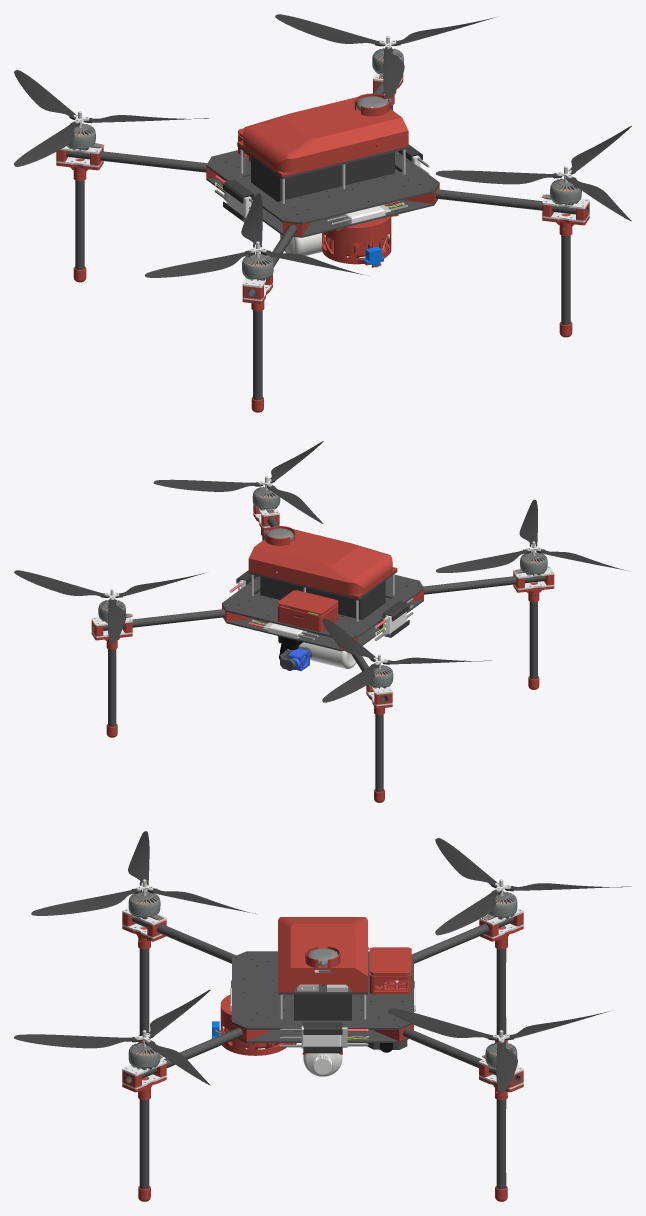
The model's file is drone.glb.
3 renders of one model, top to bottom at view 1: azimuth 30°, elevation 25°; view 2: azimuth 150°, elevation 25°; view 3: azimuth 270°, elevation 25°, orthographic. The views are drawn at different scales.
Parts seen in each view (by area): view 1: Body2.002, Body1.010, Body1.011, Body1.089, Body1.019, Body1, Body1.047, Body1.049, Body1.127, Body1.138, Body1.131, Body1.135 (+14 smaller); view 2: Body2.002, Body1.010, Body1.011, Body1.019, Body1, Body2.014, Body1.002, Body1.128, Body1.048, Body1.130, Body1.140, Body1.125 (+11 smaller); view 3: Body1.010, Body2.002, Body1.019, Body1.011, Body1, Body2.014, Body1.126, Body1.132, Body1.139, Body1.089, Body1.136, Body1.023 (+20 smaller).
Part boxes in pixels (<box>): Body2.002: <box>237,100,376,176</box>; Body1.010: <box>206,150,439,224</box>; Body1.011: <box>251,152,394,201</box>; Body1.089: <box>322,214,398,265</box>; Body1.019: <box>343,93,408,157</box>; Body1: <box>206,168,437,237</box>; Body1.047: <box>435,189,588,215</box>; Body1.049: <box>66,150,206,172</box>; Body1.127: <box>435,170,562,184</box>; Body1.138: <box>145,250,255,277</box>; Body1.131: <box>275,14,384,46</box>; Body1.135: <box>14,122,79,166</box>; Body2.002: <box>276,532,397,598</box>; Body1.010: <box>222,574,423,638</box>; Body1.011: <box>260,576,385,619</box>; Body1.019: <box>248,526,305,581</box>; Body1: <box>223,591,423,651</box>; Body2.014: <box>277,590,338,618</box>; Body1.002: <box>423,575,545,594</box>; Body1.128: <box>153,479,263,491</box>; Body1.048: <box>92,609,225,631</box>; Body1.130: <box>14,570,109,597</box>; Body1.140: <box>436,549,531,572</box>; Body1.125: <box>277,606,338,631</box>; Body1.010: <box>232,951,413,1029</box>; Body2.002: <box>278,917,367,959</box>; Body1.019: <box>278,946,367,992</box>; Body1.011: <box>294,994,351,1031</box>; Body1: <box>237,994,408,1042</box>; Body2.014: <box>369,947,411,977</box>; Body1.126: <box>14,1034,140,1048</box>; Body1.132: <box>388,1008,497,1040</box>; Body1.139: <box>31,888,141,915</box>; Body1.089: <box>219,995,296,1055</box>; Body1.136: <box>435,890,501,935</box>; Body1.023: <box>139,1099,149,1189</box>.
Size of the model in its own units: 0.9681 by 0.3394 by 0.9681.
